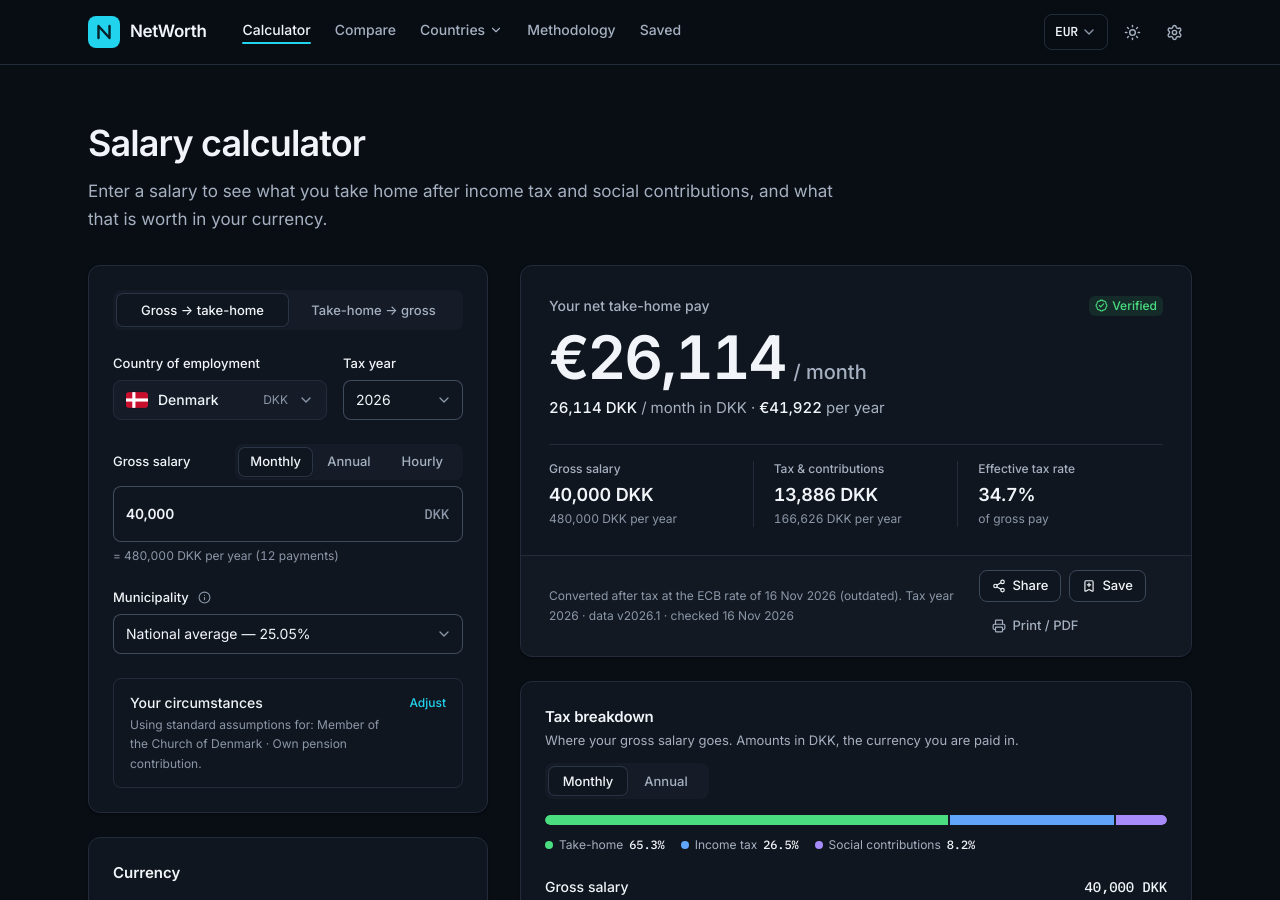
Scenario: calculator › reverse mode finds the gross salary for a desired take-home pay
The width and height of the screenshot is (1280, 900).
Click the radio button labelled "Take-home → gross".
click(374, 310)  # box top-left (288, 294), bottom-right (459, 326)
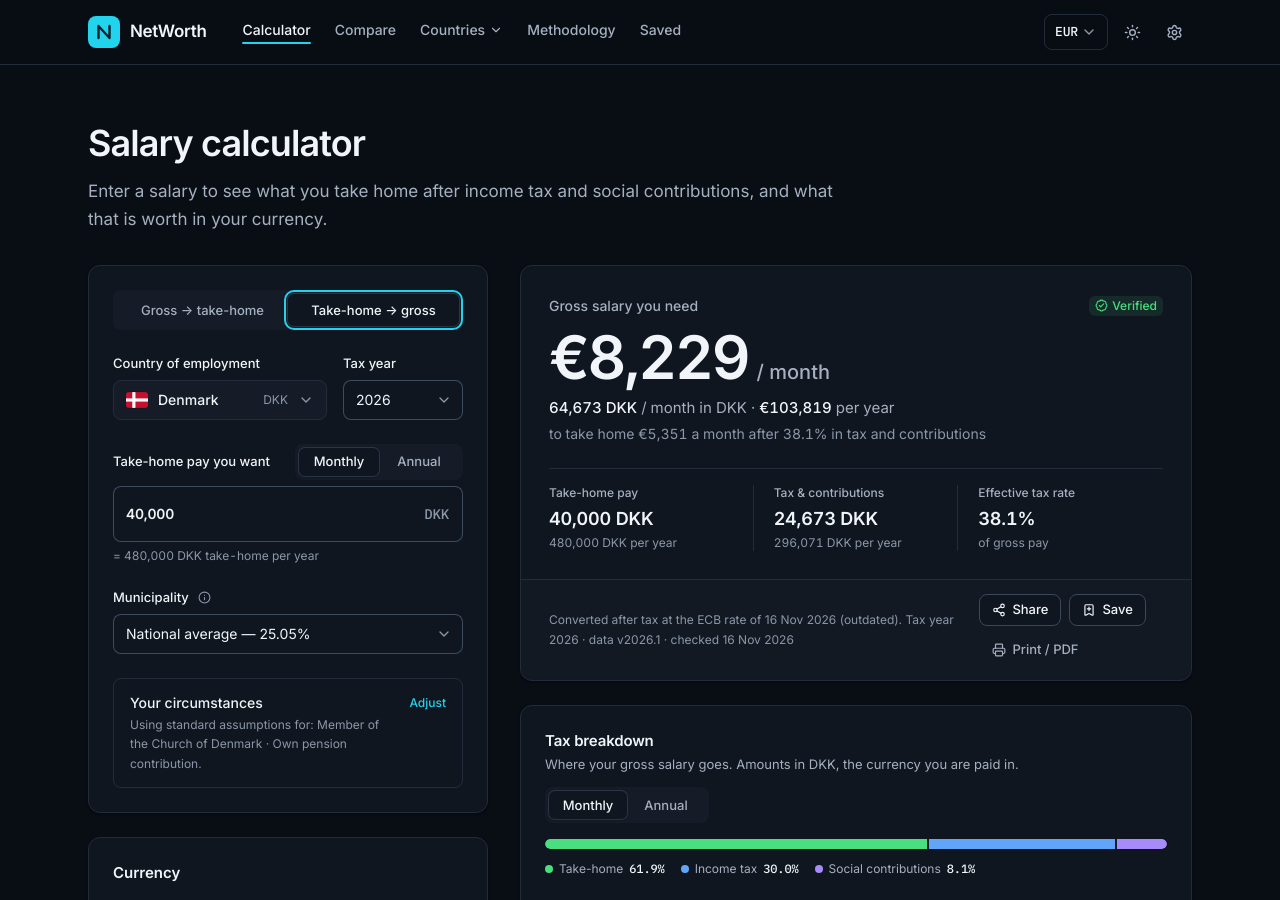
Replace the text in the field named "Desired take-home monthly pay in DKK" with "26114" at (288, 514), box top-left (113, 486), bottom-right (463, 542)
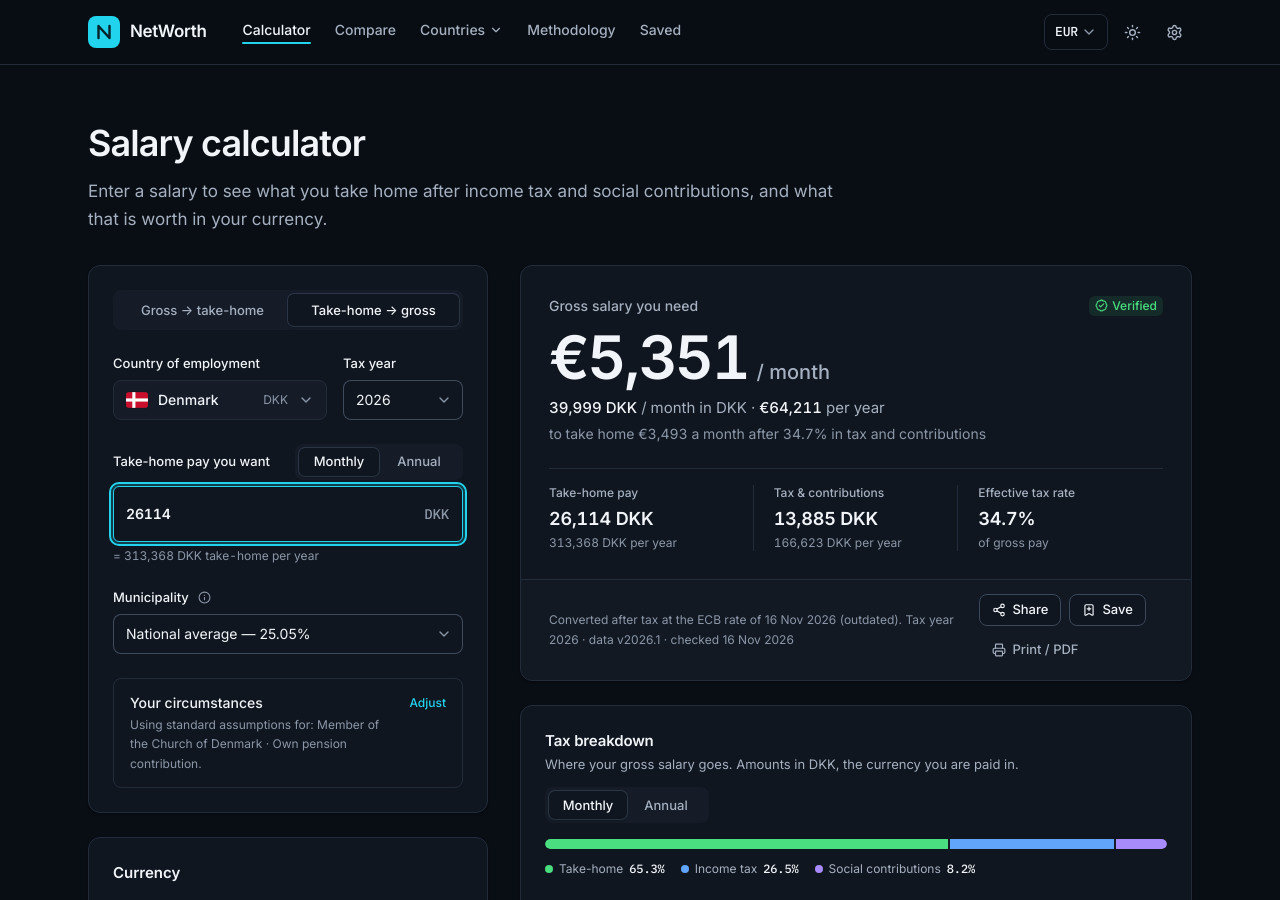
Expected: the heading "Gross salary you need" is shown, top-left (549, 296), bottom-right (698, 316)
Expected: the element with test id "hero-local" reads "39,999 DKK / month in DKK · €64,211 per year", top-left (549, 398), bottom-right (637, 417)
